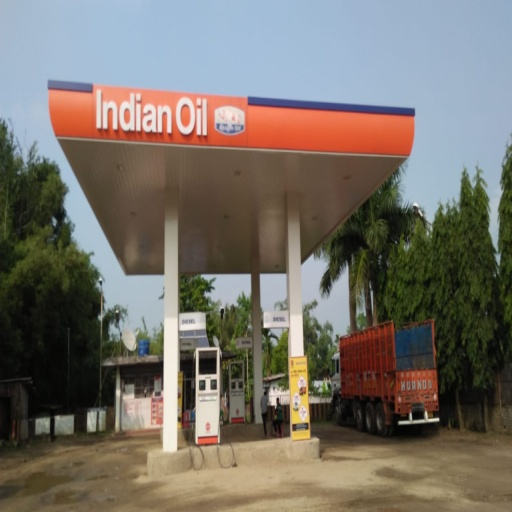roof: (42, 78, 421, 279)
